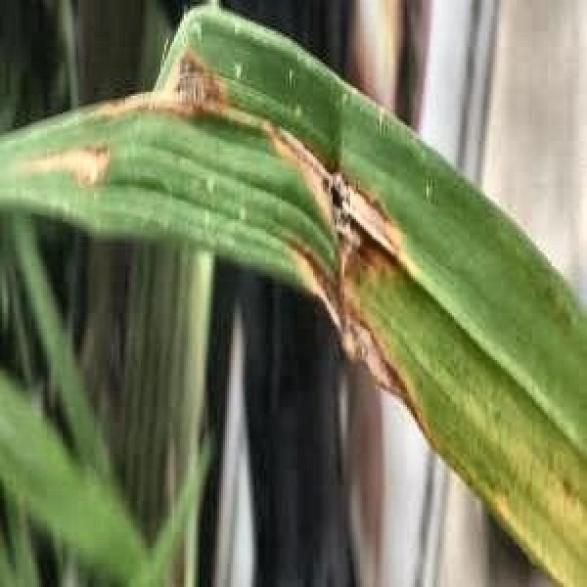Leaf_smut: (270, 102, 432, 427)
